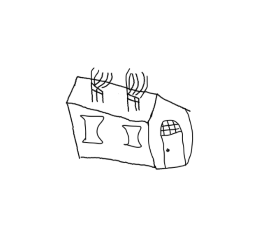door: (154, 115, 191, 173)
open_window: (77, 112, 112, 149), (120, 119, 148, 153)
roof: (63, 66, 194, 123)
small_house: (1, 2, 260, 239)
smoking_chimney: (120, 63, 152, 115), (83, 65, 115, 108)
wall: (64, 100, 156, 169)
